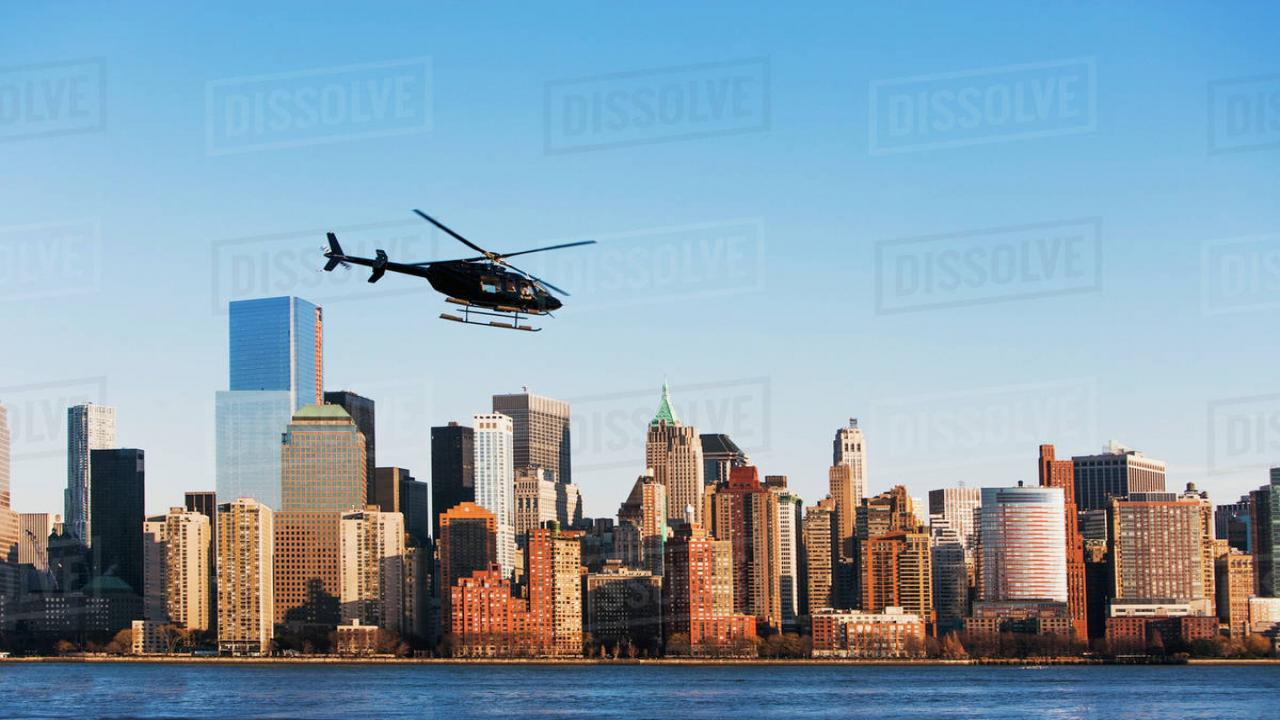Helicopter: (294, 190, 625, 364)
